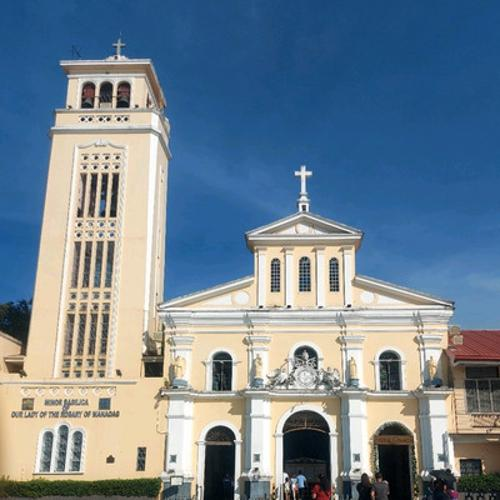Manaoag Church: (17, 29, 456, 500)
